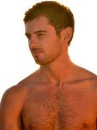male: (21, 1, 78, 74)
